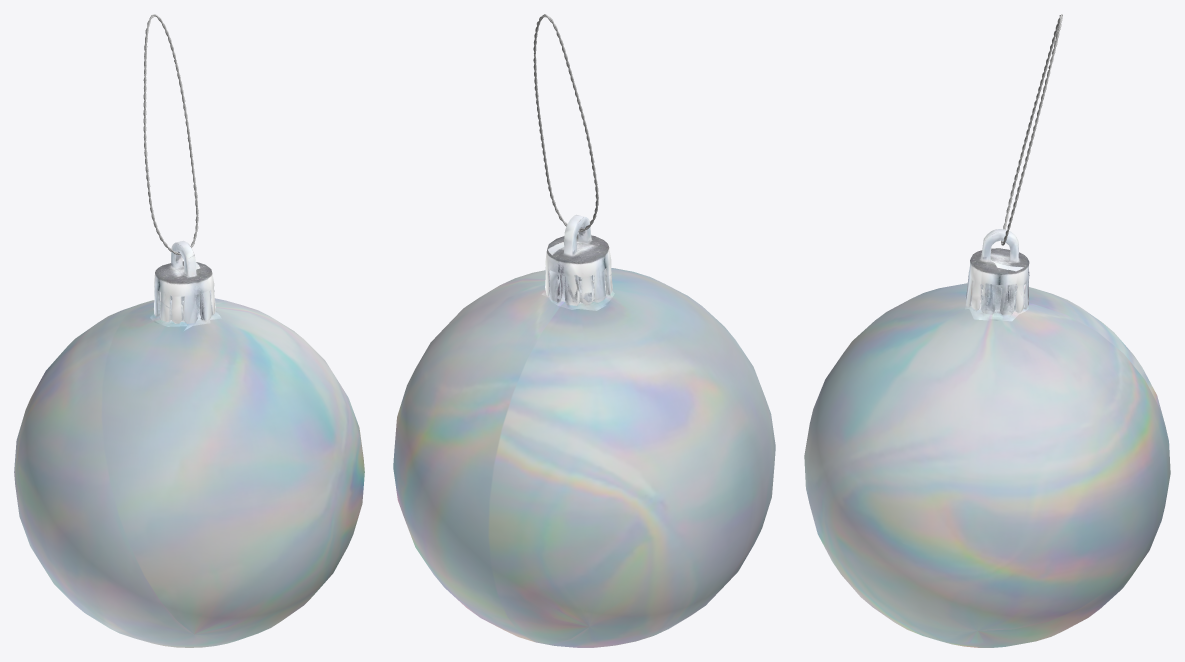
The model's file is Iridescent_Orb_L.glb.
3 renders of one model, left to right at view 1: azimuth 30°, elevation 25°; view 2: azimuth 150°, elevation 25°; view 3: azimuth 270°, elevation 25°, orthographic. The views are drawn at different scales.
Parts seen in each view (by area): view 1: Sphere, GN Instance; view 2: Sphere, GN Instance; view 3: Sphere, GN Instance.
Part boxes in pixels (box(x1,y1,x2,y2)): Sphere: box(14, 240, 364, 647); GN Instance: box(143, 14, 198, 254); Sphere: box(393, 215, 775, 647); GN Instance: box(533, 14, 598, 232); Sphere: box(804, 229, 1170, 647); GN Instance: box(1001, 14, 1062, 245).
Size of the model in its own units: 0.08 by 0.1483 by 0.0799.
Materials: 3 (2 with a texture image).
